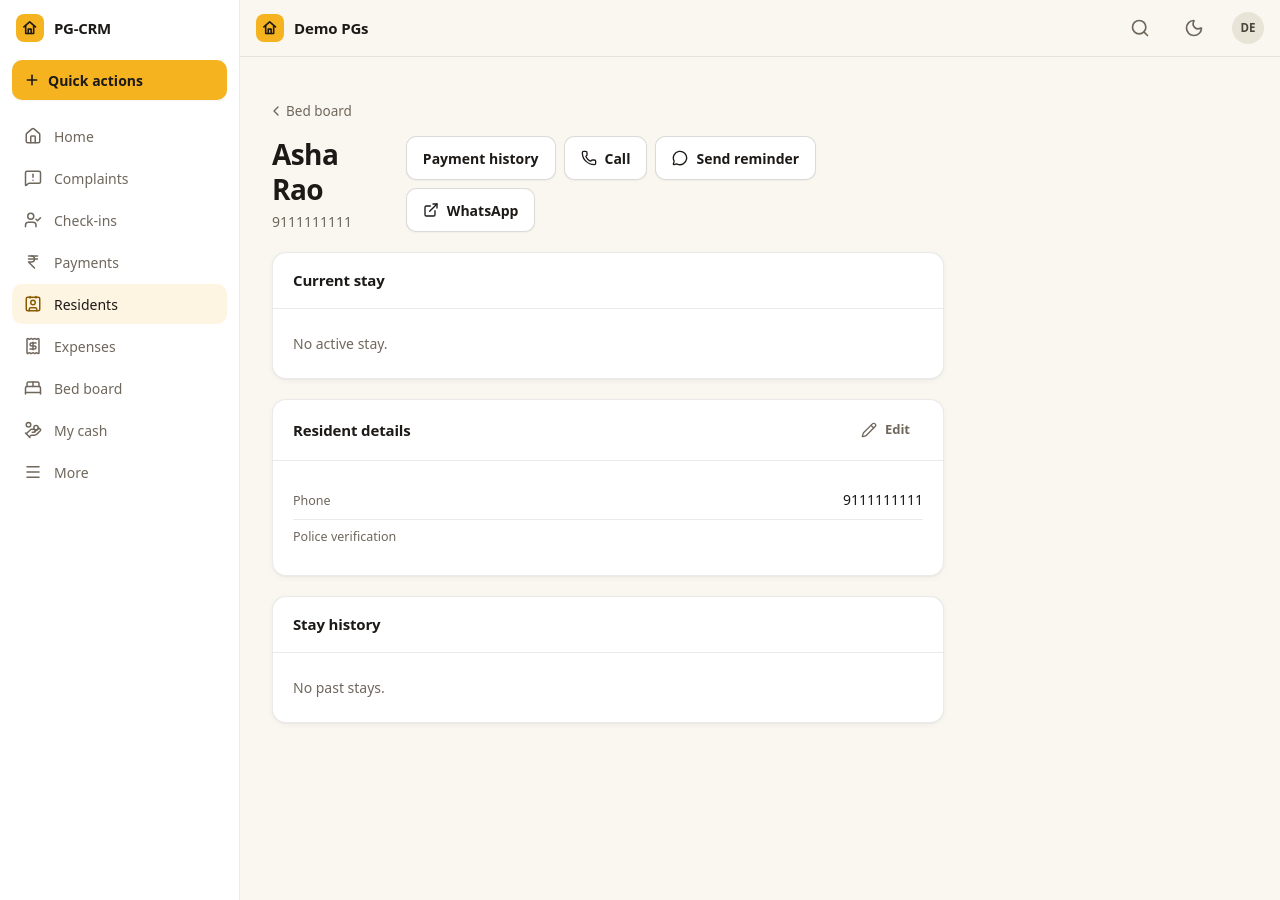
Test: Reminder on resident detail › [FE-33/AC1] Send reminder on resident detail opens the ledger whatsapp_url and then shows Reminded today
Click the button "Send reminder" at (736, 158), box [655,136,816,180]
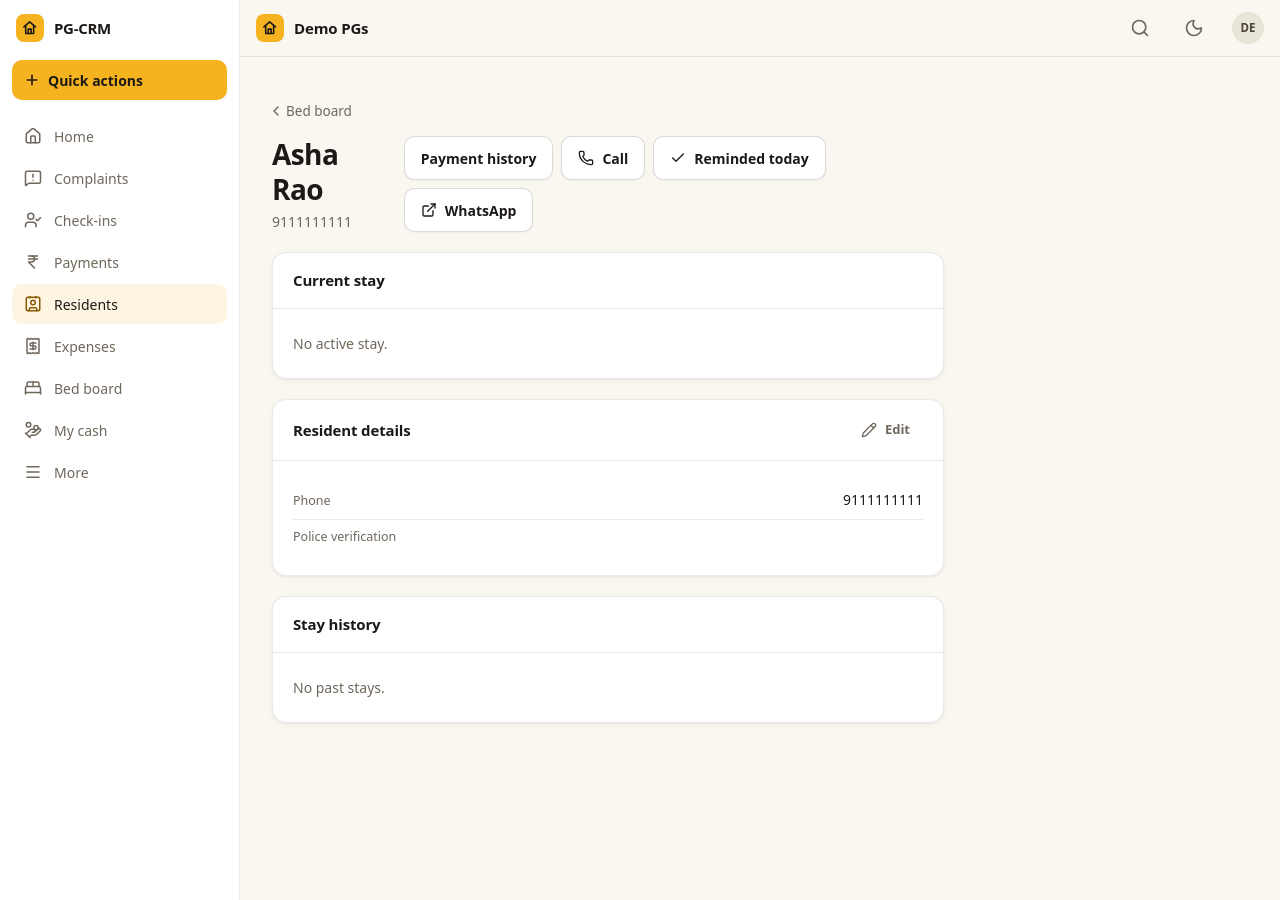
Result: the button "Reminded today" is shown at [653,136,826,180]
